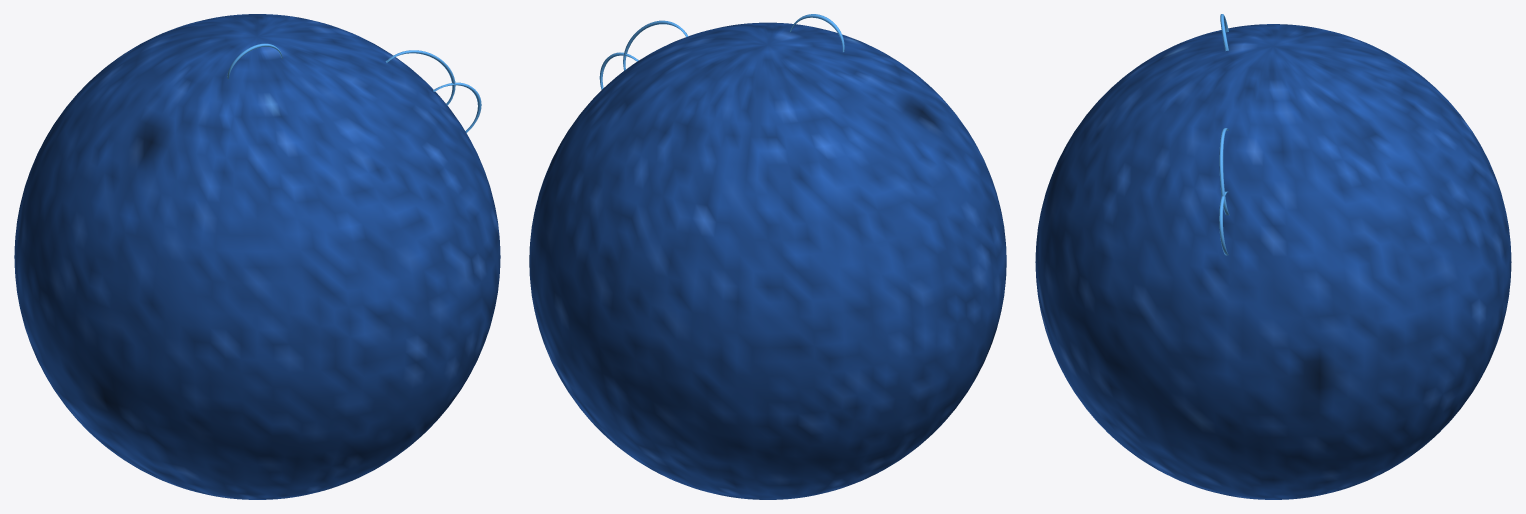
Rendered from Star_19.fbx.
3 renders of one model, left to right at view 1: azimuth 30°, elevation 25°; view 2: azimuth 150°, elevation 25°; view 3: azimuth 270°, elevation 25°, orthographic. The views are drawn at different scales.
Parts seen in each view (by area): view 1: Star_19; view 2: Star_19; view 3: Star_19.
Part boxes in pixels (x1=…): Star_19: x1=14, y1=14, x2=500, y2=499; Star_19: x1=529, y1=14, x2=1006, y2=499; Star_19: x1=1035, y1=14, x2=1511, y2=499.
Size of the model in its own units: 200 by 208 by 200.
